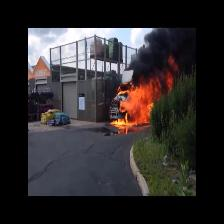fire: (123, 85, 155, 125)
smoke: (142, 28, 196, 77)
